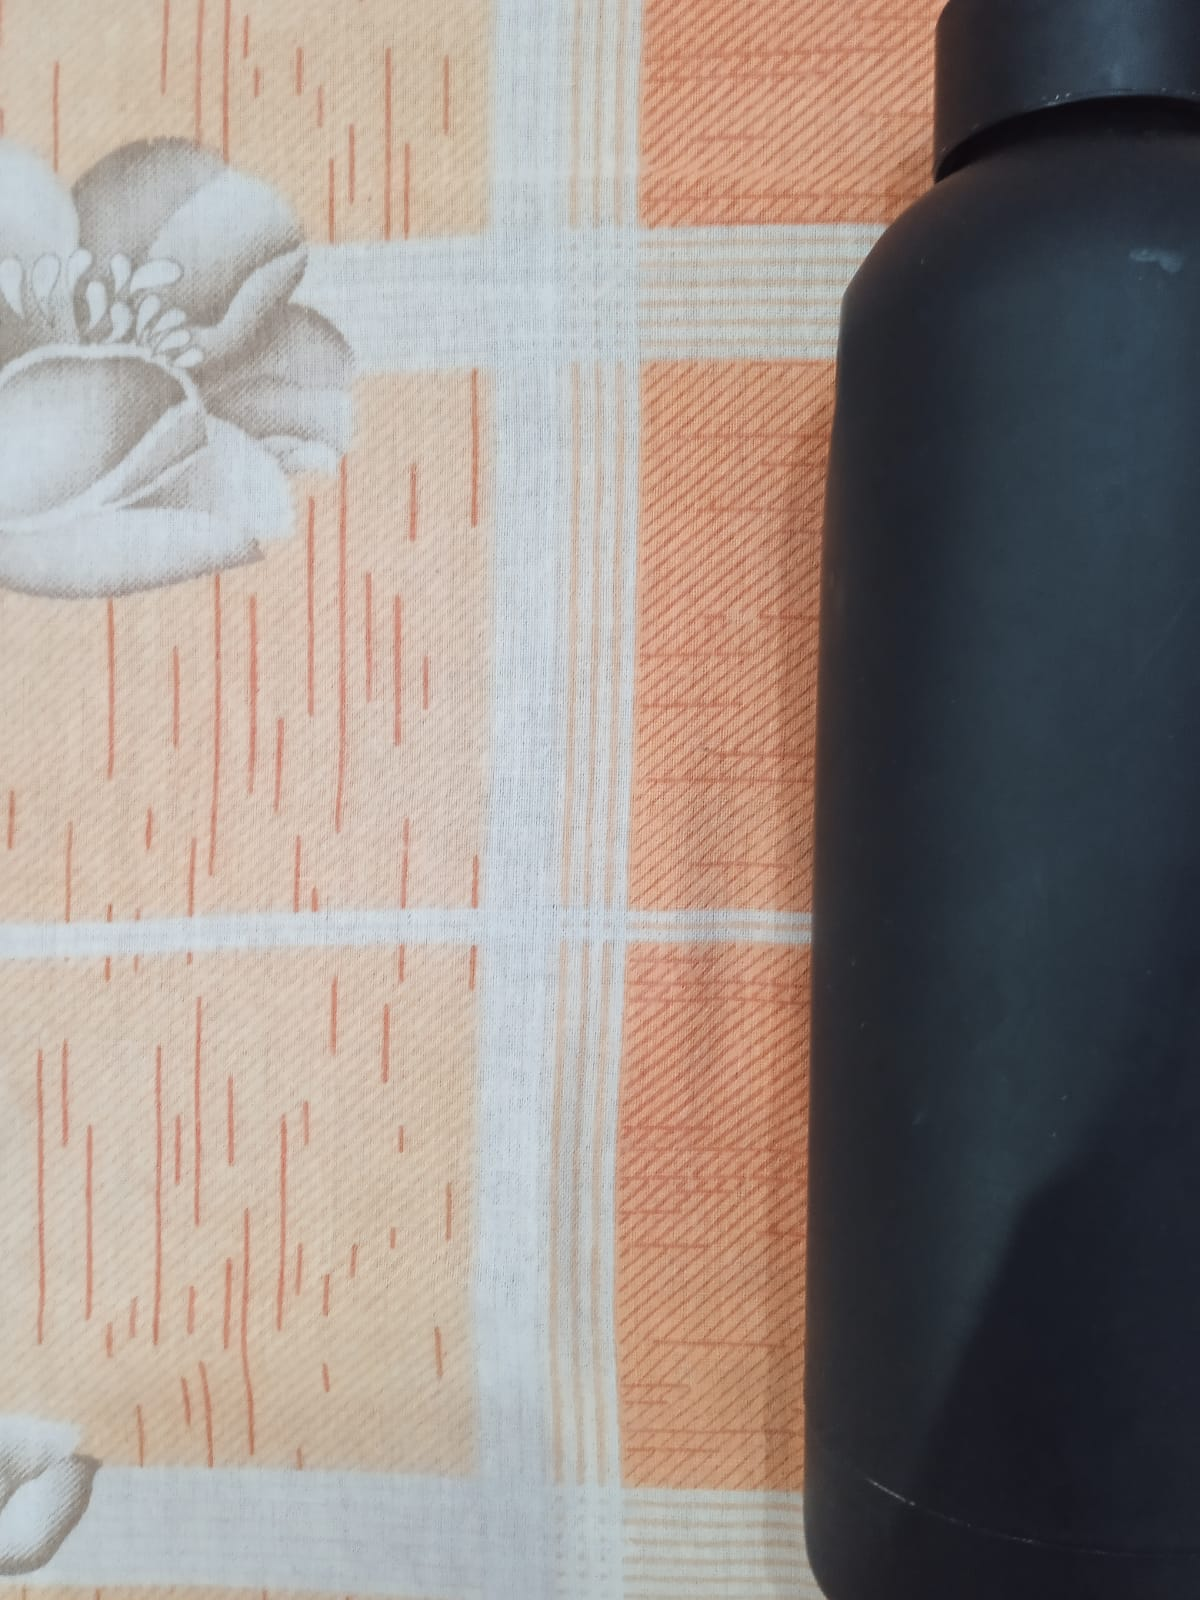bottle: (746, 1, 1197, 1590)
